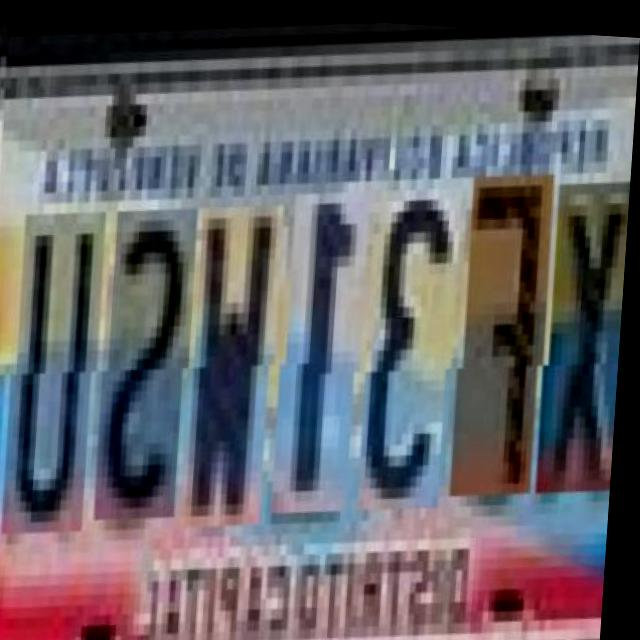1: (276, 177, 369, 505)
3: (362, 175, 461, 503)
f: (454, 161, 551, 490)
s: (99, 192, 197, 511)
u: (7, 195, 106, 524)
w: (185, 189, 282, 518)
x: (539, 170, 632, 487)
